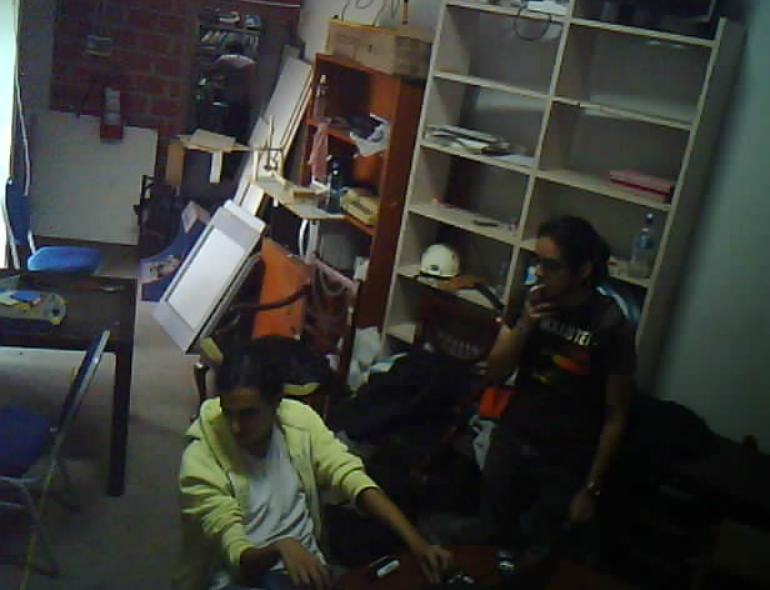person: (421, 162, 653, 565), (148, 311, 457, 590), (200, 20, 274, 148)
